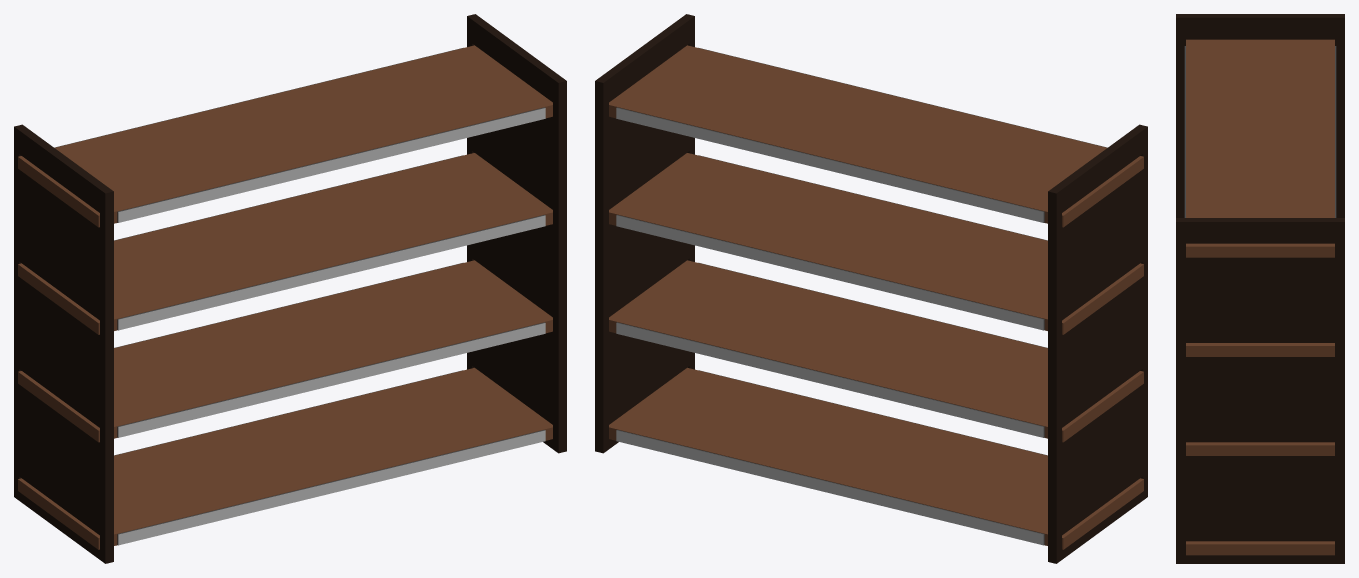
The model's file is Large Dark Brown Shelf.fbx.
3 renders of one model, left to right at view 1: azimuth 30°, elevation 25°; view 2: azimuth 150°, elevation 25°; view 3: azimuth 270°, elevation 25°, orthographic. The views are drawn at different scales.
Parts seen in each view (by area): view 1: Large Dark Brown Shelf; view 2: Large Dark Brown Shelf; view 3: Large Dark Brown Shelf.
Part boxes in pixels (x1=…): Large Dark Brown Shelf: x1=14, y1=14, x2=566, y2=563; Large Dark Brown Shelf: x1=595, y1=14, x2=1147, y2=563; Large Dark Brown Shelf: x1=1176, y1=14, x2=1344, y2=563.
Bounding box in the file's own units: 237 × 180 × 80.6.
Materials: 1 (1 with a texture image).
